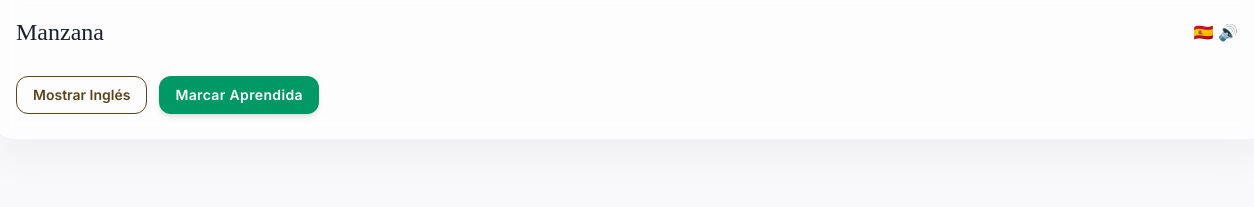
Scenario: Flashcard › renderiza el contenido correctamente
Check: the text "Manzana" is shown, box [16, 16, 104, 48]
# Reveal English
Click the button "Mostrar Inglés" at (82, 95), box [16, 76, 148, 114]
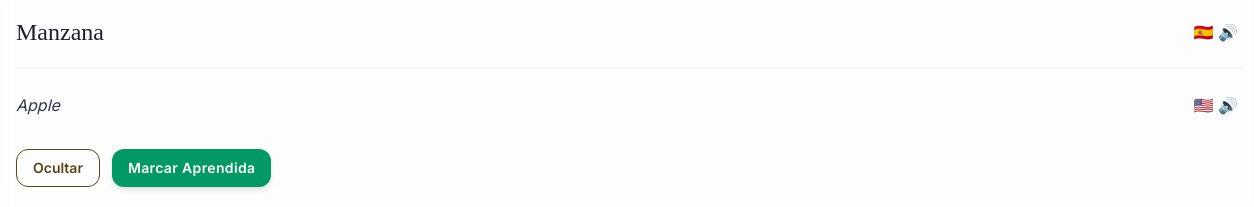
Check: the text "Apple" is shown, box [16, 93, 60, 117]
